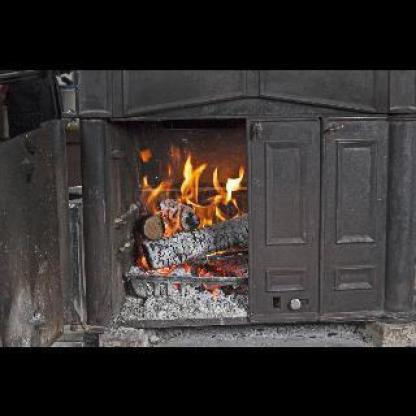fire: (131, 142, 243, 233)
